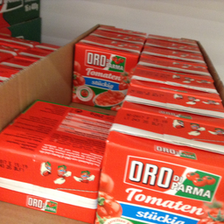tomato_sauce: (90, 107, 223, 224), (1, 99, 114, 224), (70, 33, 141, 107)
